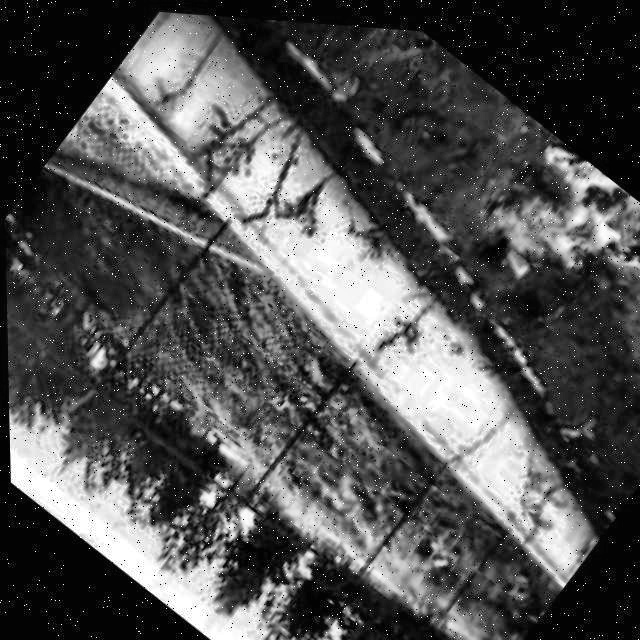Fire: (468, 112, 640, 318)
